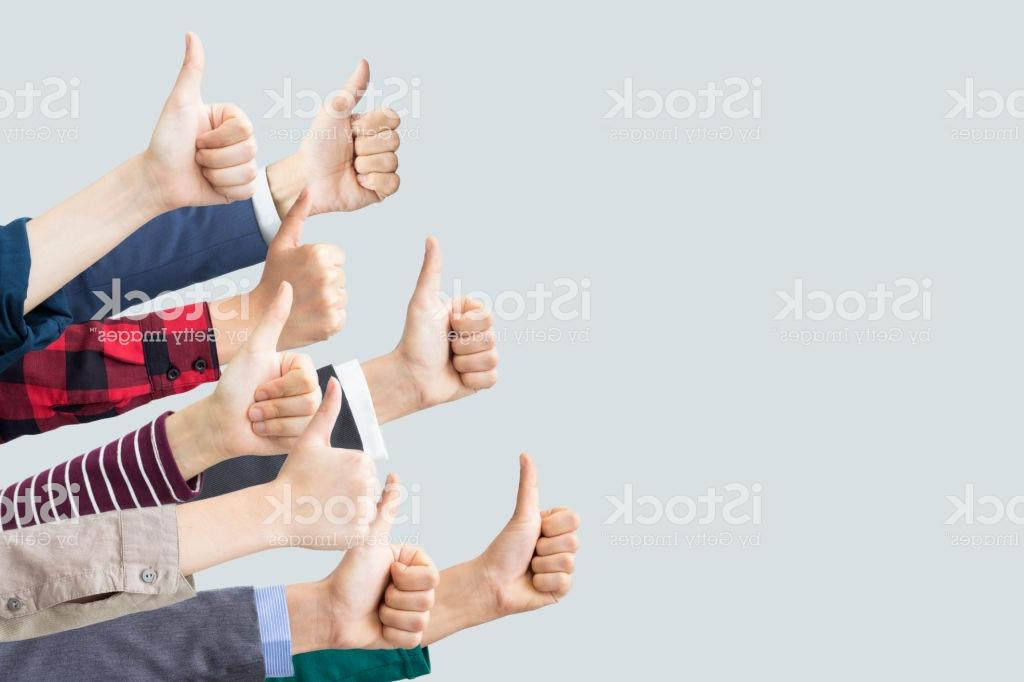thumbsup: (345, 468, 442, 653), (161, 30, 261, 207), (403, 230, 503, 403), (232, 280, 323, 457), (295, 374, 381, 552), (493, 451, 581, 617), (321, 57, 404, 215), (278, 185, 348, 349)
